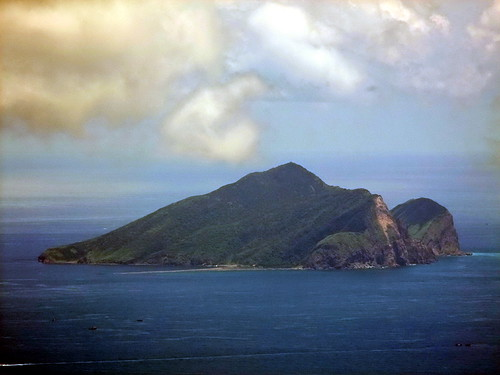turtleIsland: (41, 158, 465, 263)
